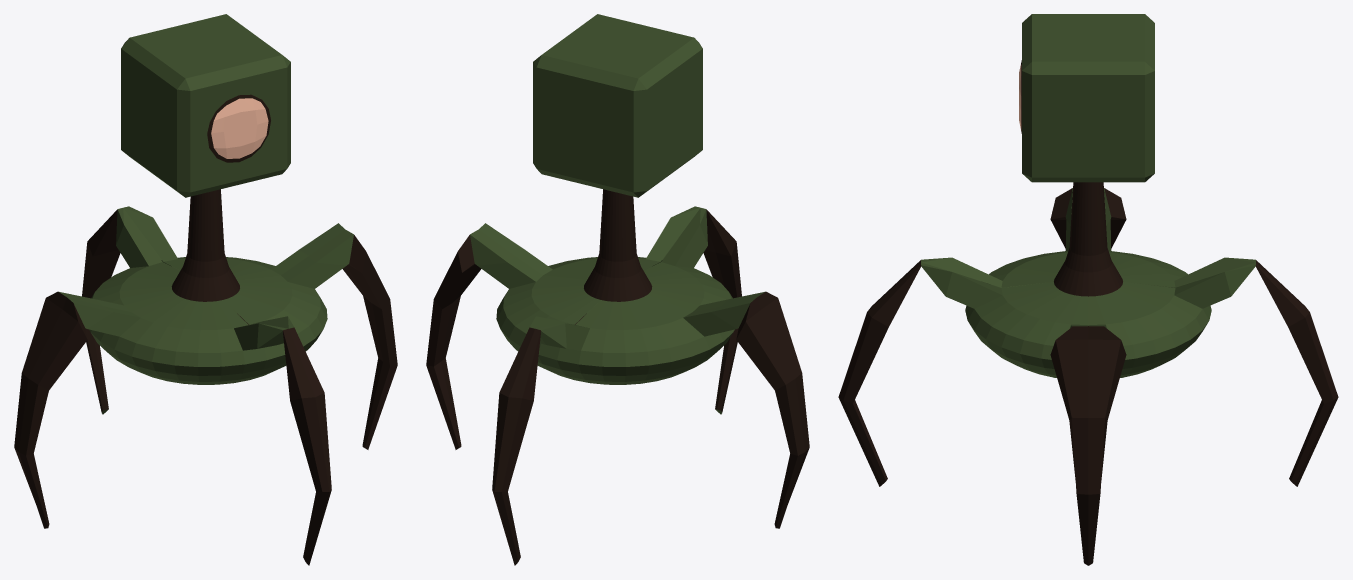
Rendered from Enemy.fbx.
3 renders of one model, left to right at view 1: azimuth 30°, elevation 25°; view 2: azimuth 150°, elevation 25°; view 3: azimuth 270°, elevation 25°, orthographic.
Visible parts, largest first — view 1: Sphere, Cube.001; view 2: Sphere, Cube.001; view 3: Sphere, Cube.001.
Boxes of the visible parts, x1=… form: Sphere: x1=14, y1=189, x2=397, y2=565; Cube.001: x1=121, y1=14, x2=290, y2=197; Sphere: x1=426, y1=189, x2=809, y2=565; Cube.001: x1=533, y1=14, x2=702, y2=197; Sphere: x1=838, y1=182, x2=1338, y2=565; Cube.001: x1=1019, y1=14, x2=1154, y2=182.
Bounding box in the file's own units: 262 × 296 × 299.
